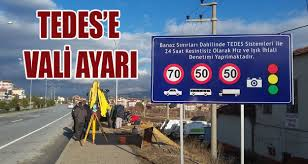50 Km Hiz Siniri: (190, 63, 213, 85), (218, 64, 241, 85)
70 Km Hiz Siniri: (161, 63, 185, 84)
